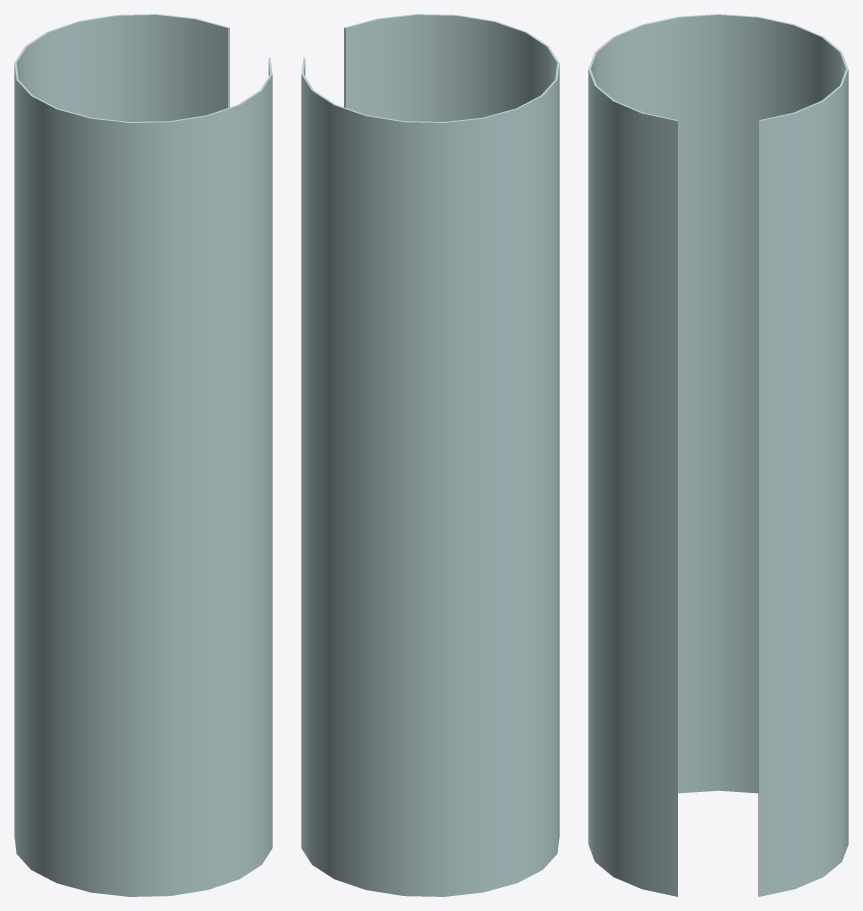
The model's file is Column Glass.fbx.
3 renders of one model, left to right at view 1: azimuth 30°, elevation 25°; view 2: azimuth 150°, elevation 25°; view 3: azimuth 270°, elevation 25°, orthographic.
Parts seen in each view (by area): view 1: Glass; view 2: Glass; view 3: Glass.
Boxes of the visible parts, <box> form: Glass: <box>14,14,272,896</box>; Glass: <box>301,14,559,896</box>; Glass: <box>588,14,848,896</box>.
Bounding box in the file's own units: 73.35 × 248 × 75.18.
